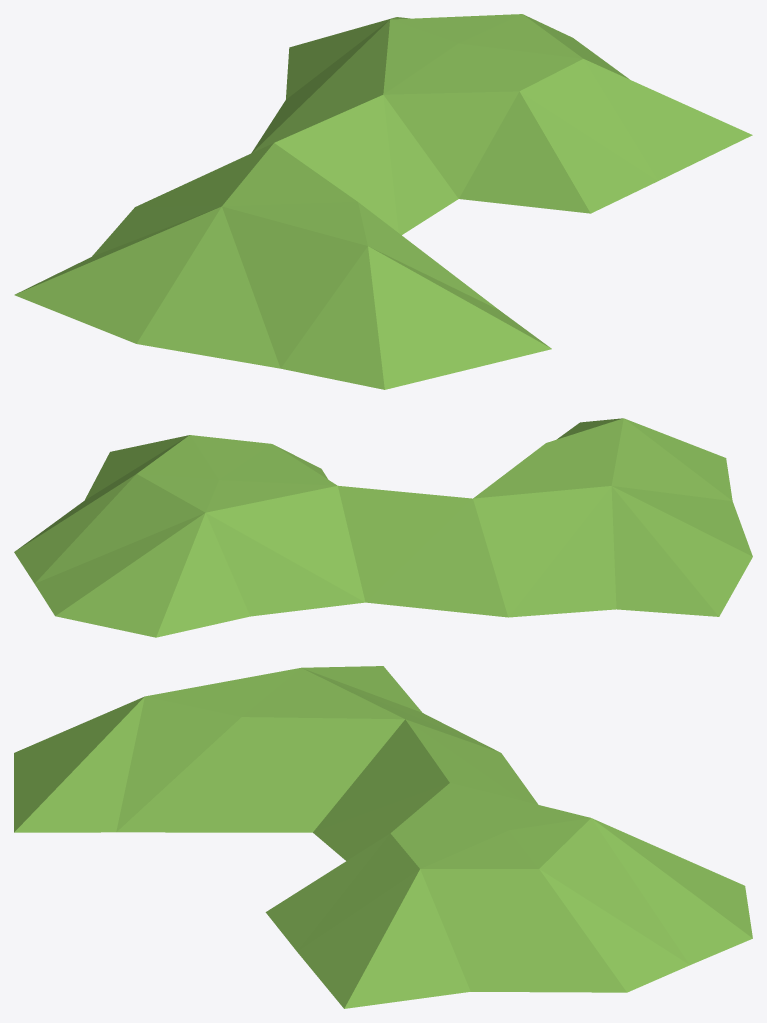
The model's file is MT_Mountain_S_b_20_LOD.fbx.
3 renders of one model, top to bottom at view 1: azimuth 30°, elevation 25°; view 2: azimuth 150°, elevation 25°; view 3: azimuth 270°, elevation 25°, orthographic. The views are drawn at different scales.
Visible parts, largest first — view 1: MT_Mountain_S_b_20_LOD0; view 2: MT_Mountain_S_b_20_LOD0; view 3: MT_Mountain_S_b_20_LOD0.
Boxes of the visible parts, bbox=[...] form: MT_Mountain_S_b_20_LOD0: bbox=[14, 14, 752, 389]; MT_Mountain_S_b_20_LOD0: bbox=[14, 418, 752, 637]; MT_Mountain_S_b_20_LOD0: bbox=[14, 666, 752, 1008].
Size of what is drawn, in the model's own units: 2126 by 235 by 1940.
